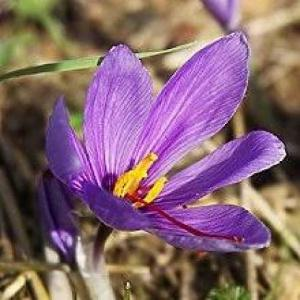Saffron: (50, 34, 287, 255)
